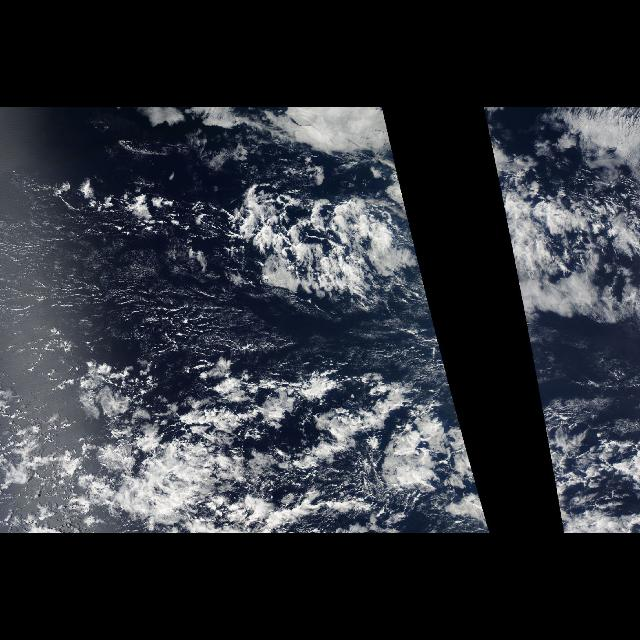Flower: (153, 399, 433, 519)
Gravel: (136, 183, 398, 303)
Sugar: (3, 232, 315, 390)
